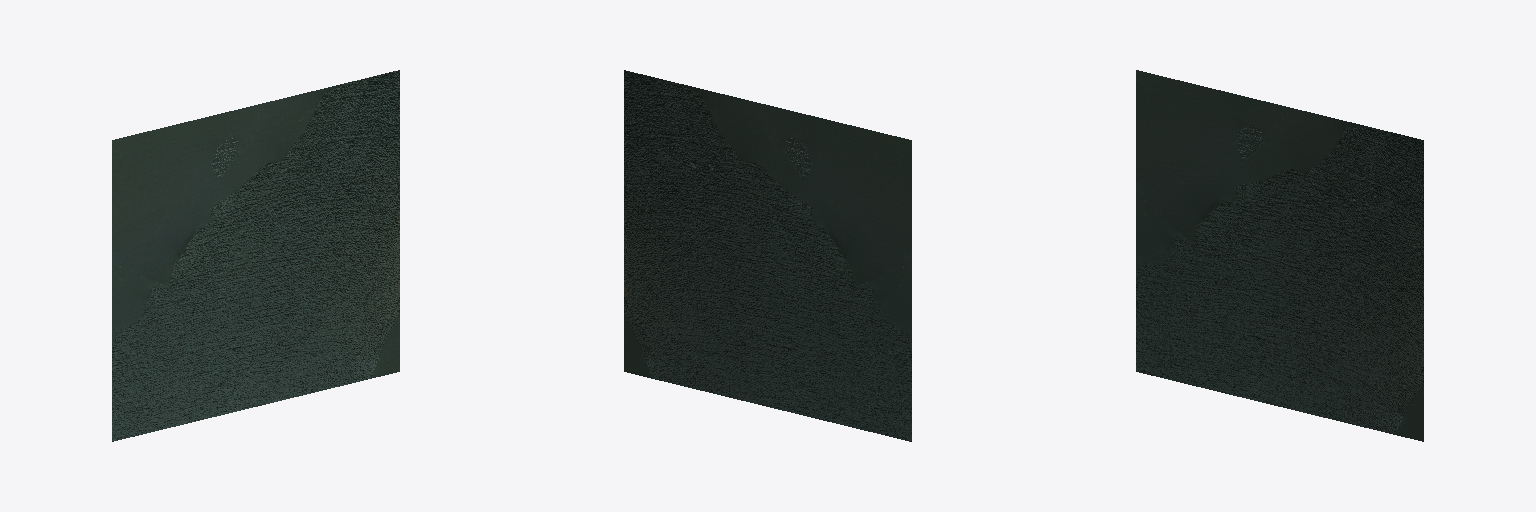
3 renders of one model, left to right at view 1: azimuth 30°, elevation 25°; view 2: azimuth 150°, elevation 25°; view 3: azimuth 330°, elevation 25°, orthographic.
Bounding box in the file's own units: 252 × 252 × 2.4.
Materials: 2 (1 with a texture image).